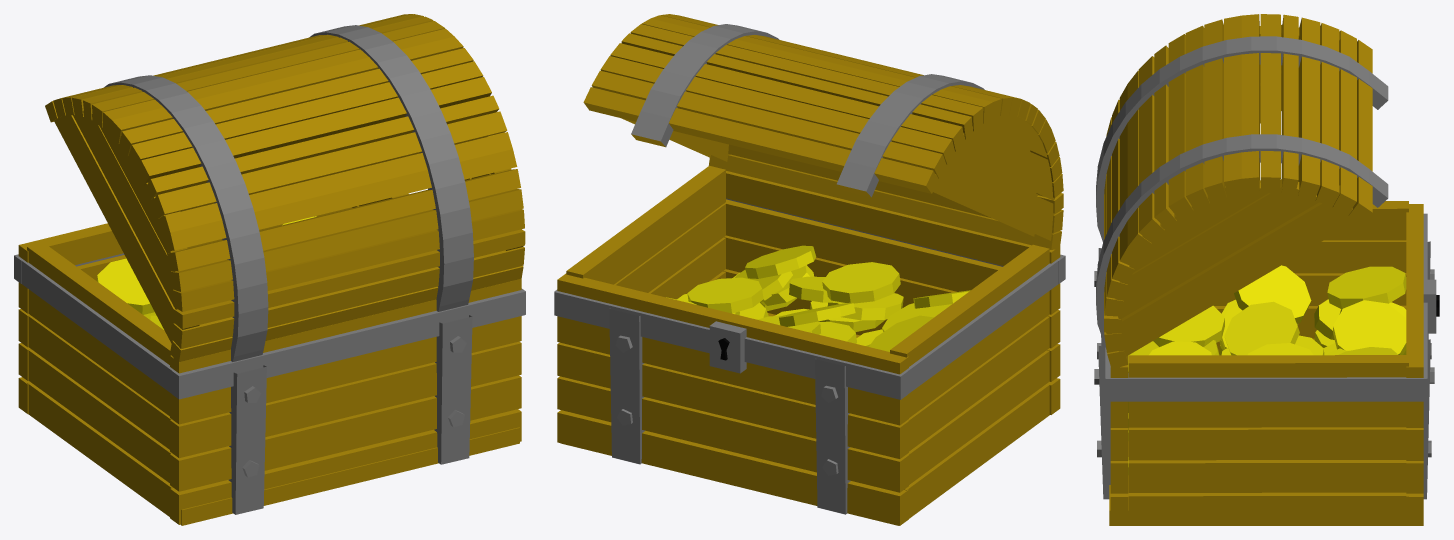
The model's file is chest_open.glb.
The picture shows the model from 3 angles, left to right: view 1: azimuth 30°, elevation 25°; view 2: azimuth 150°, elevation 25°; view 3: azimuth 270°, elevation 25°; orthographic projection. The views are drawn at different scales.
Parts seen in each view (by area): view 1: ChestOpen; view 2: ChestOpen; view 3: ChestOpen.
Boxes of the visible parts, <box> form: ChestOpen: <box>14,14,525,525</box>; ChestOpen: <box>554,14,1065,525</box>; ChestOpen: <box>1094,14,1439,525</box>.
Size of the model in its own units: 0.709 by 0.7041 by 0.6261.
